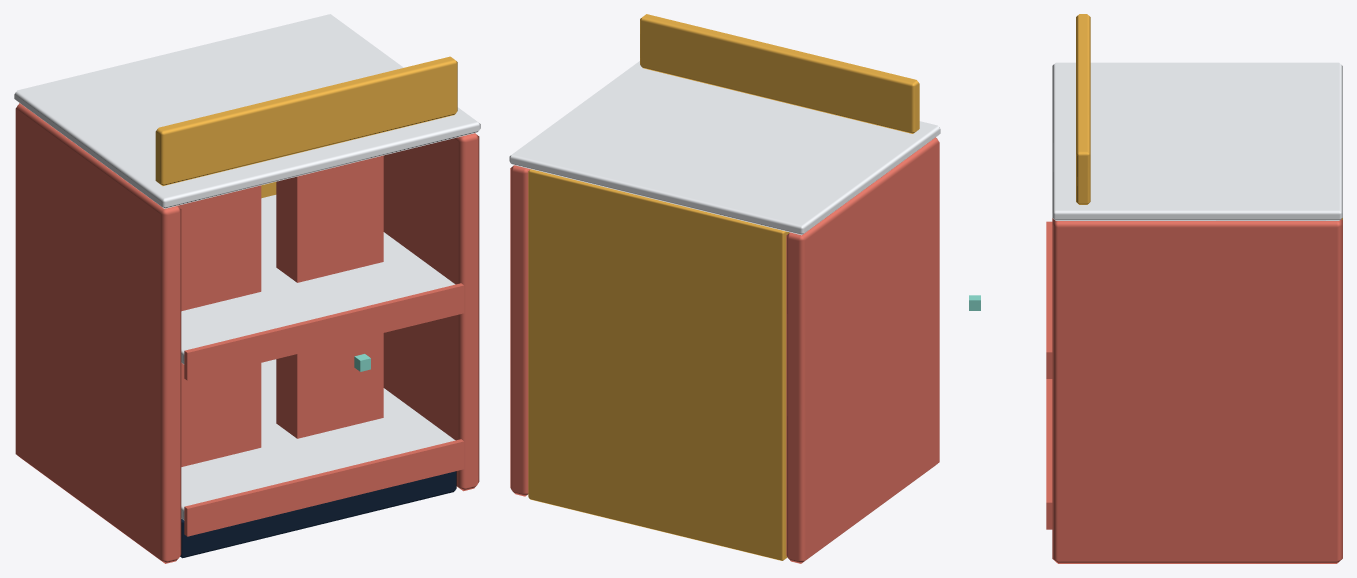
The model's file is CM_Fixture_Endcap_Far.fbx.
3 views of the same model, side by side, from view 1: azimuth 30°, elevation 25°; view 2: azimuth 150°, elevation 25°; view 3: azimuth 270°, elevation 25° (orthographic). The views are drawn at different scales.
Visible parts, largest first — view 1: Body; view 2: Body; view 3: Body.
Part boxes in pixels (left/top/right/bottom): Body: left=14, top=14, right=480, bottom=563; Body: left=509, top=14, right=940, bottom=563; Body: left=1046, top=14, right=1342, bottom=563.
Bounding box in the file's own units: 6 × 6.3 × 7.6.
Materials: 1 (1 with a texture image).
